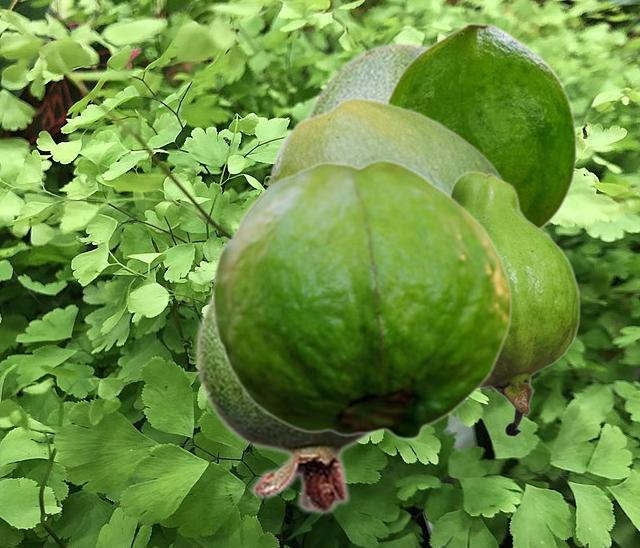guava: (211, 158, 511, 440), (264, 96, 503, 389), (194, 285, 380, 515), (384, 22, 577, 228), (450, 170, 579, 436), (301, 40, 428, 117)
